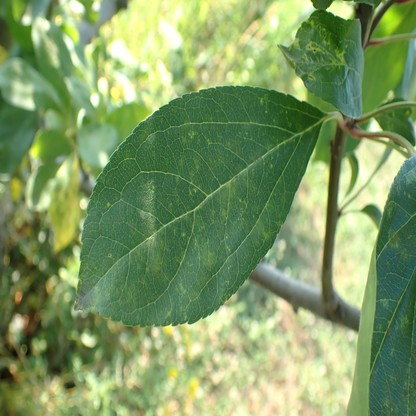scab: (75, 95, 314, 316), (290, 19, 348, 80), (401, 362, 416, 416), (381, 397, 397, 415), (389, 229, 399, 249), (380, 297, 390, 310), (399, 247, 408, 261), (387, 203, 395, 218), (400, 316, 409, 327), (389, 369, 396, 382), (375, 323, 383, 333), (391, 348, 394, 356)
